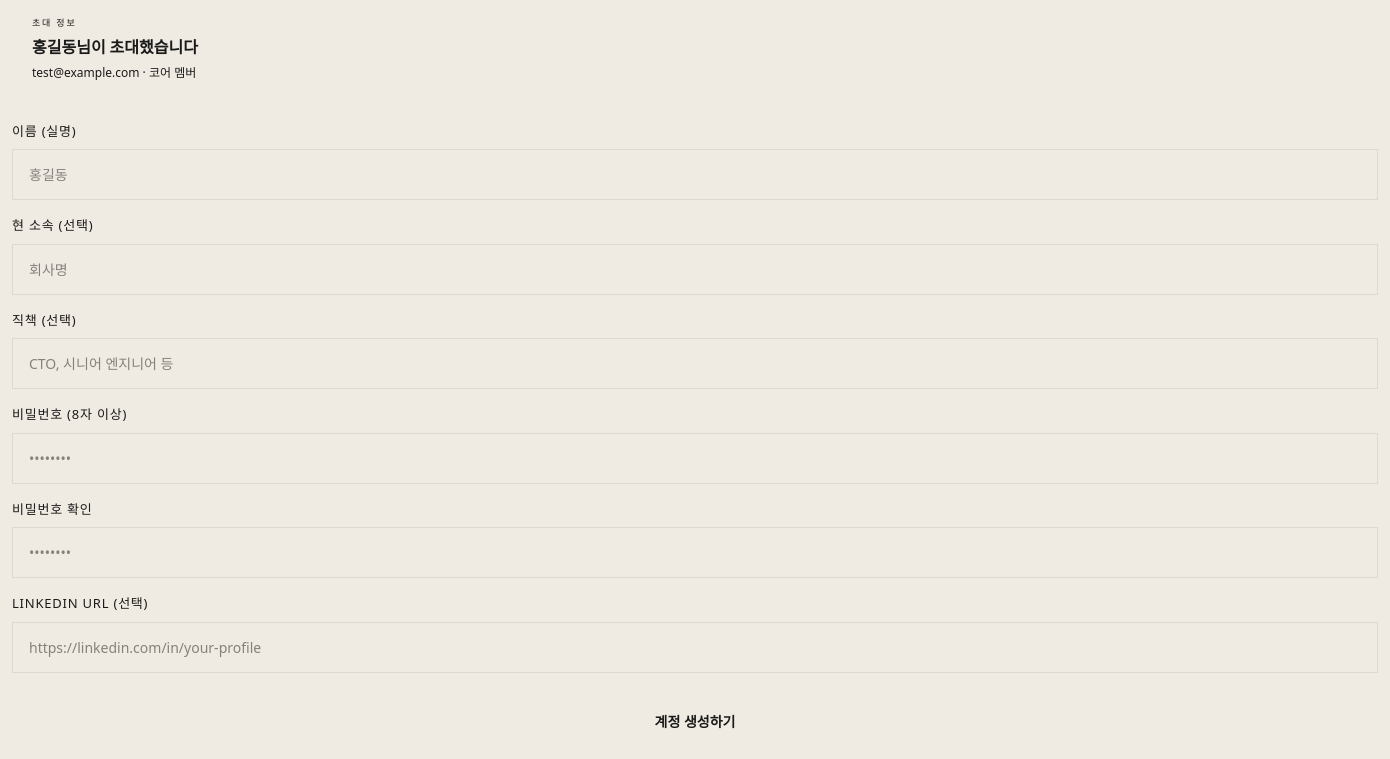
Test: InviteAcceptForm › shows min length error
The image size is (1390, 759).
Expected: the text "홍길동님이 초대했습니다" is shown, [32,38,198,56]
Type "김철수" into the field with placeholder "홍길동" at x=695, y=174, box [12,149,1378,200]
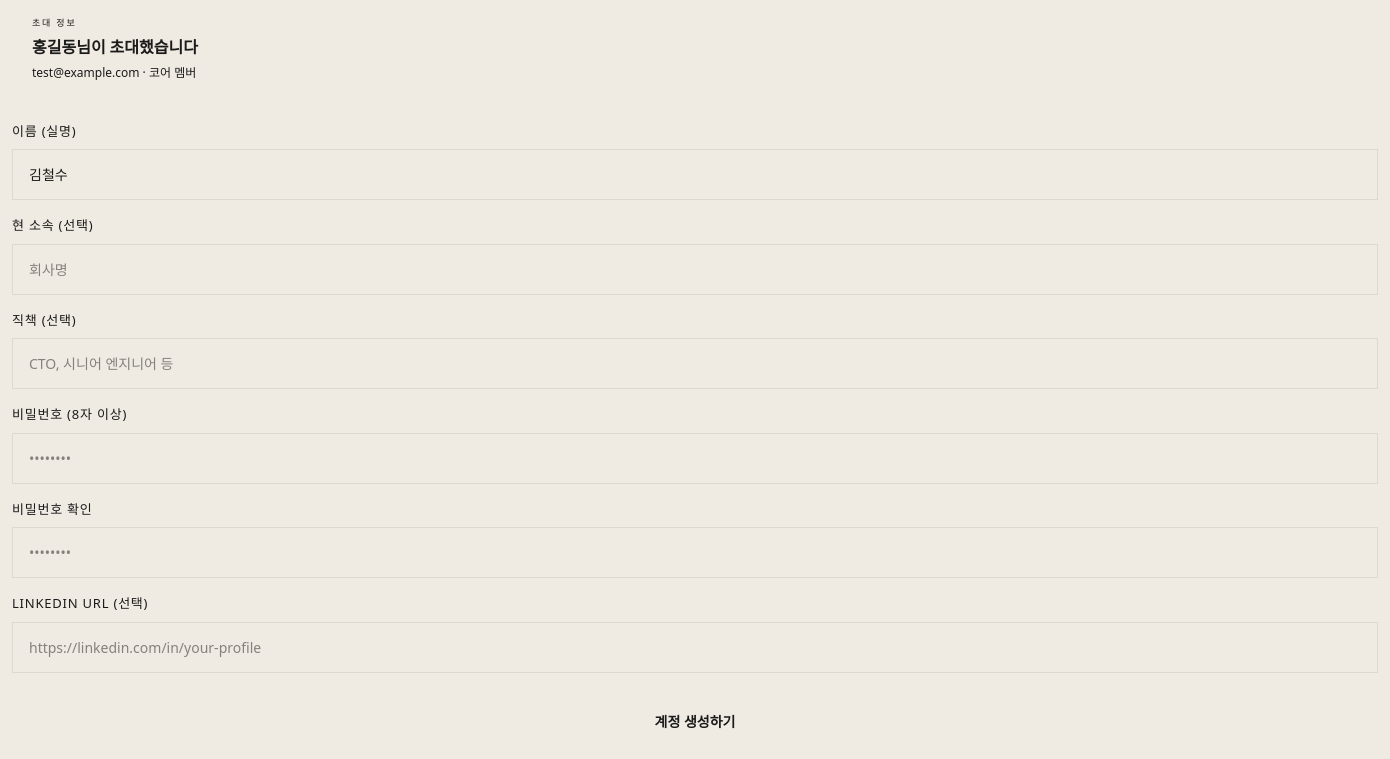
Type "short" into the password field with placeholder "••••••••" below "비밀번호 (8자 이상)" at x=695, y=458, box [12,432,1378,484]
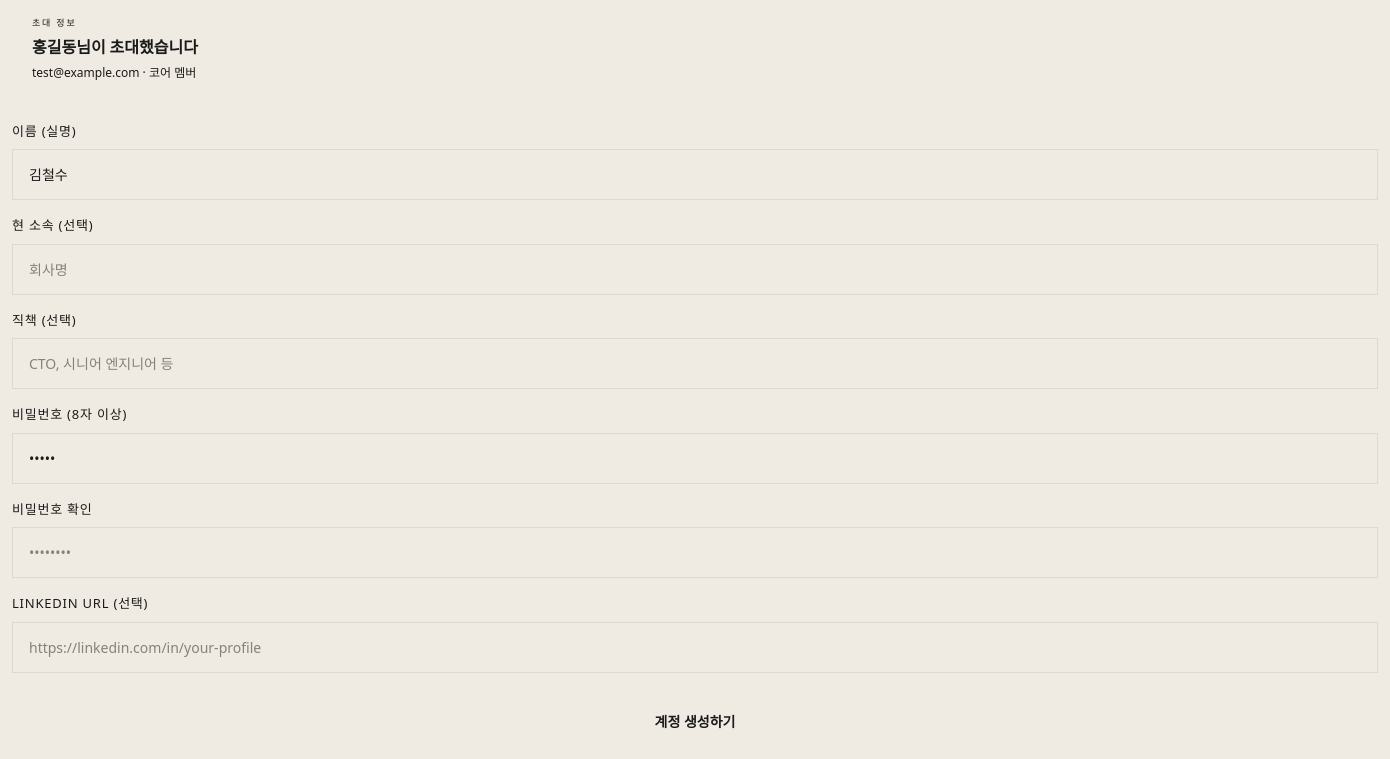
Type "short" into the password field with placeholder "••••••••" at x=695, y=552, box [12,527,1378,578]
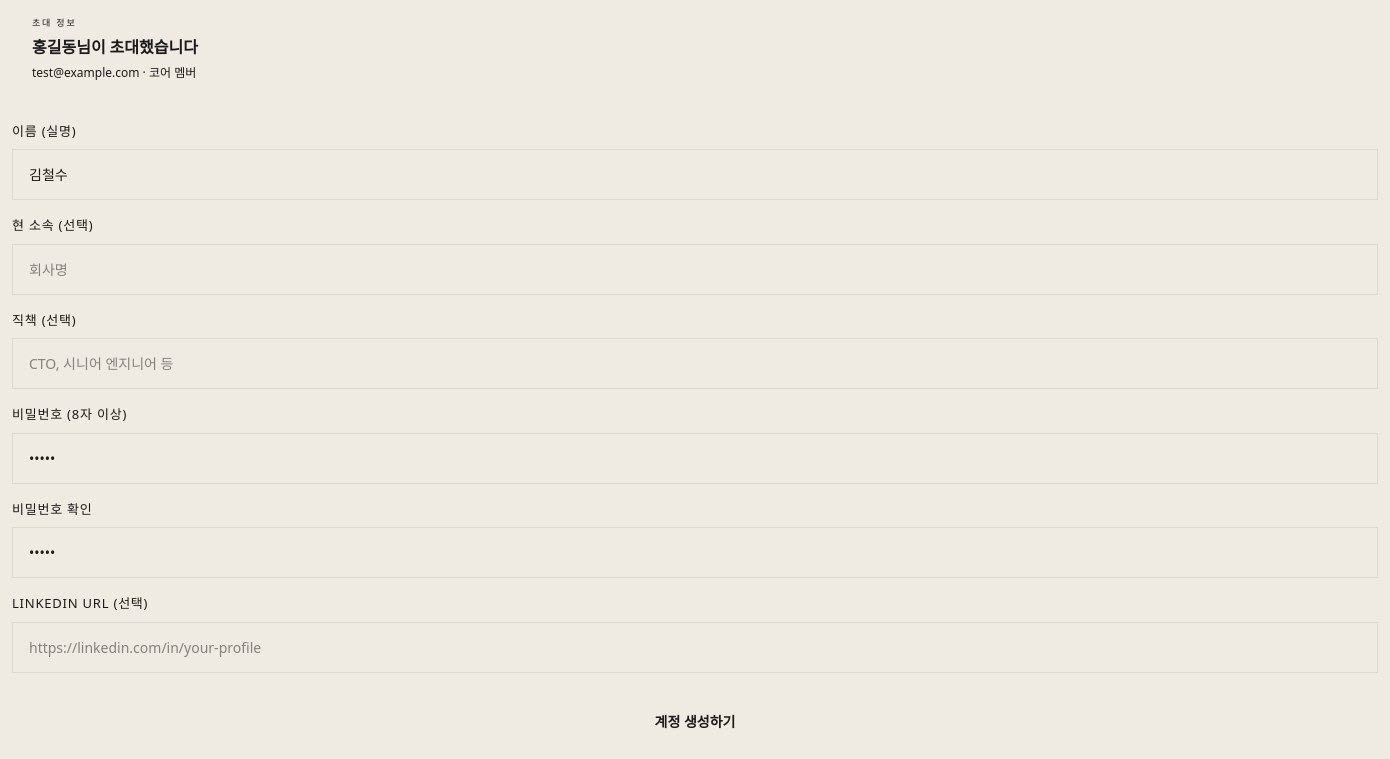
Click the button "계정 생성하기" at x=695, y=721, box [12,696,1378,746]
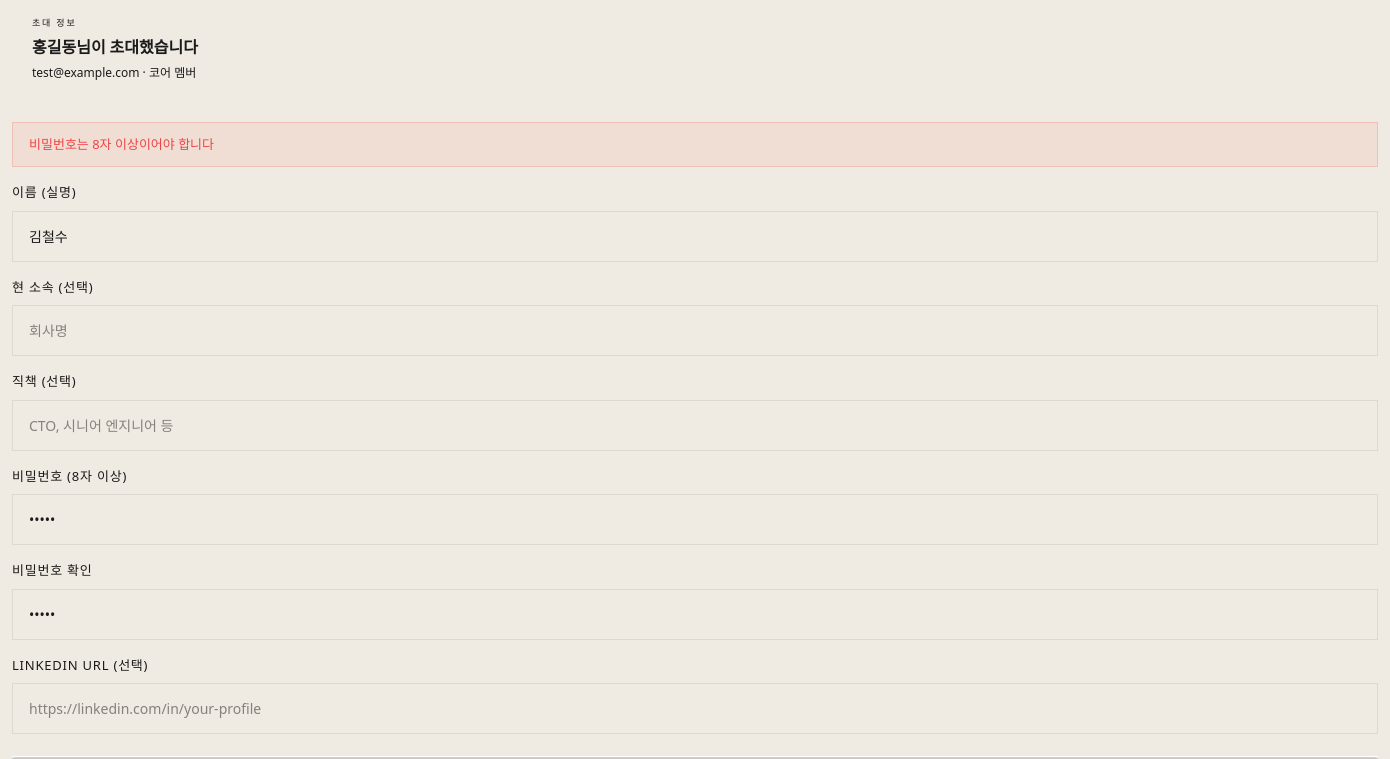
Now the text "비밀번호는 8자 이상이어야 합니다" is shown, box [12,122,1378,167]
